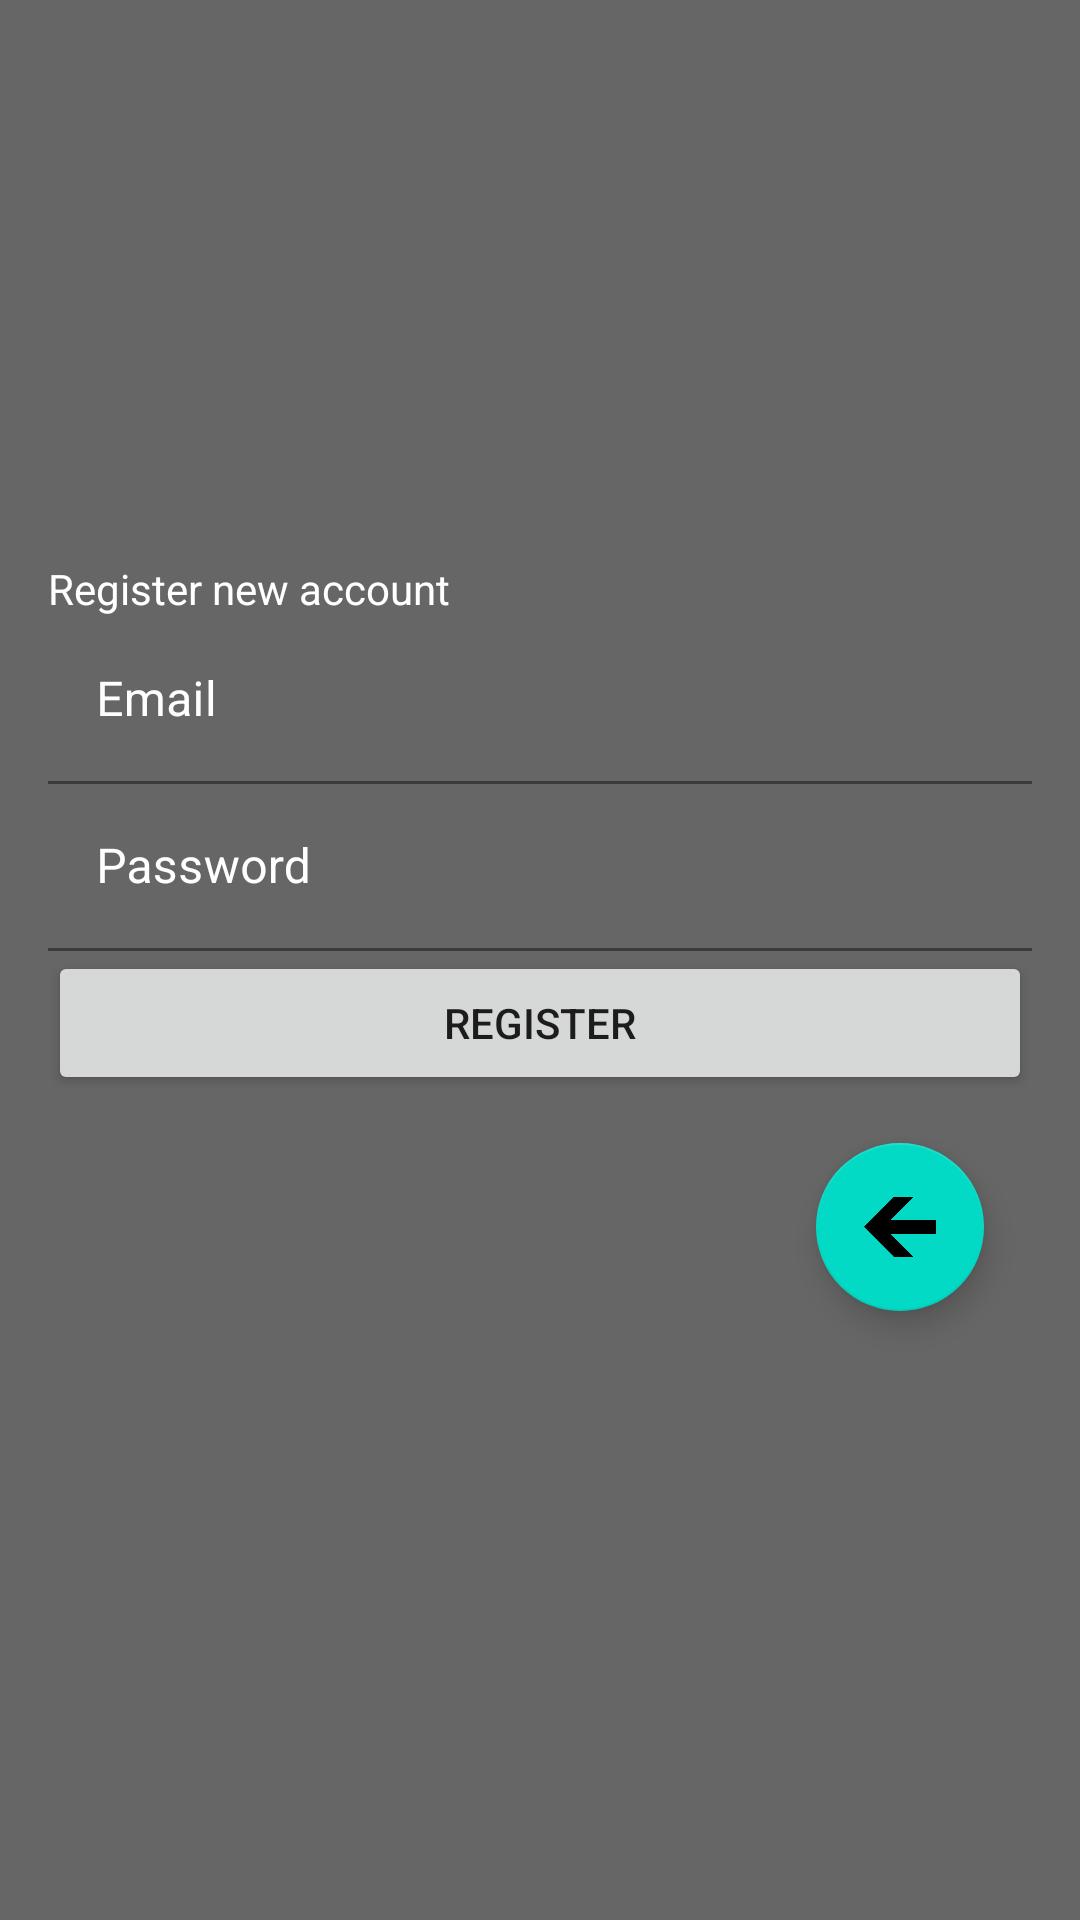

Screen size 1080*1920. Icon name, then its center in pixels as point (x, y):
left arrow: point (900, 1227)
